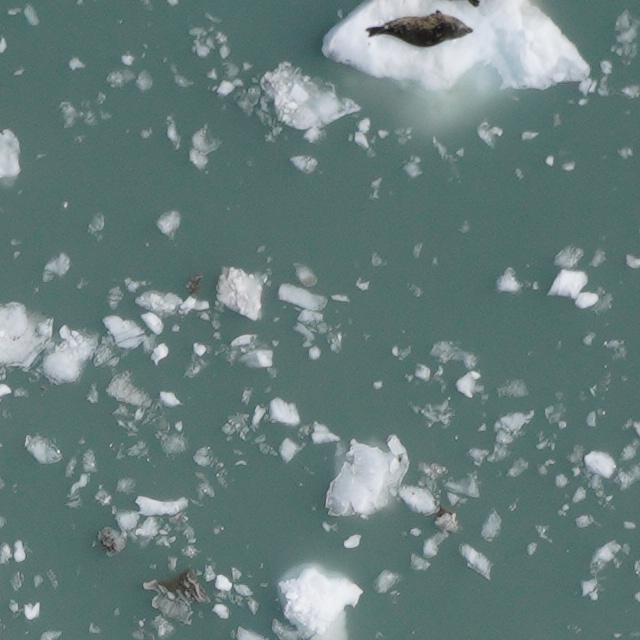seal: (364, 2, 475, 59)
